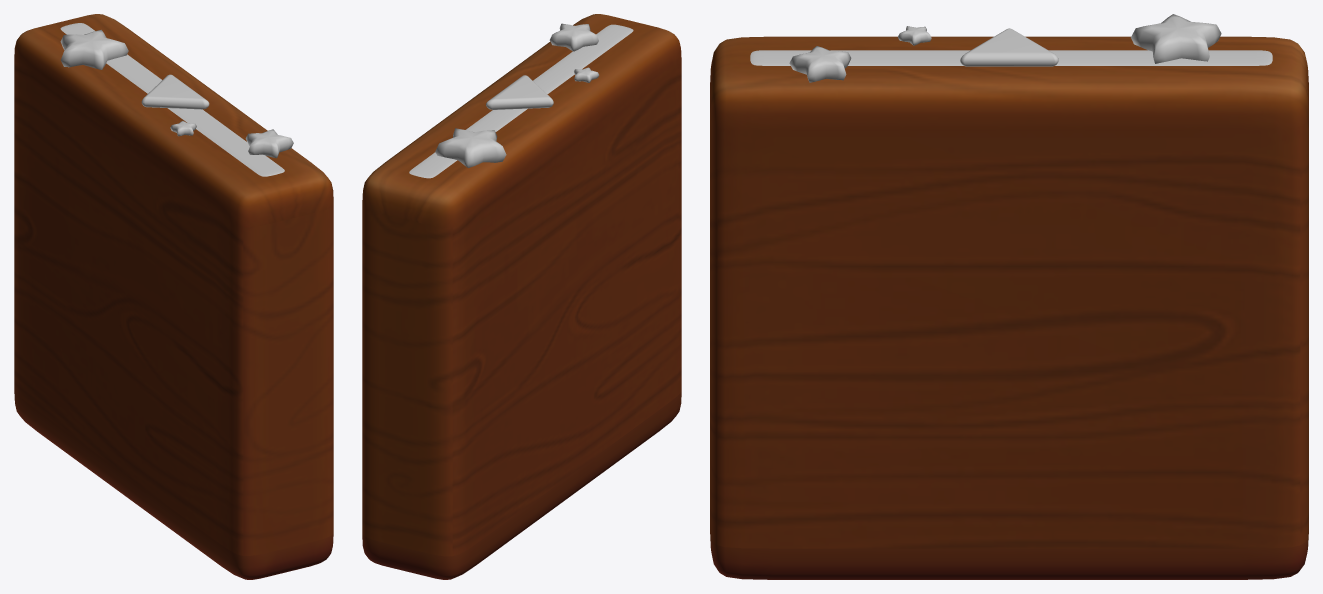
The model's file is wall_2.fbx.
The picture shows the model from 3 angles, left to right: view 1: azimuth 30°, elevation 25°; view 2: azimuth 150°, elevation 25°; view 3: azimuth 270°, elevation 25°; orthographic projection. The views are drawn at different scales.
Parts seen in each view (by area): view 1: wall_2, lego_point, stars, triangle; view 2: wall_2, lego_point, stars, triangle; view 3: wall_2, lego_point, stars, triangle.
Part boxes in pixels (x1,y1,x2,y2): wall_2: [14, 14, 333, 579]; lego_point: [60, 23, 284, 176]; stars: [60, 29, 293, 158]; triangle: [141, 74, 209, 109]; wall_2: [362, 14, 681, 579]; lego_point: [409, 24, 633, 178]; stars: [435, 23, 599, 167]; triangle: [486, 75, 553, 109]; wall_2: [710, 36, 1308, 579]; lego_point: [750, 50, 1272, 65]; stars: [789, 14, 1221, 82]; triangle: [960, 28, 1058, 66].
Bounding box in the file's own units: 0.5 × 1.93 × 2.02.
